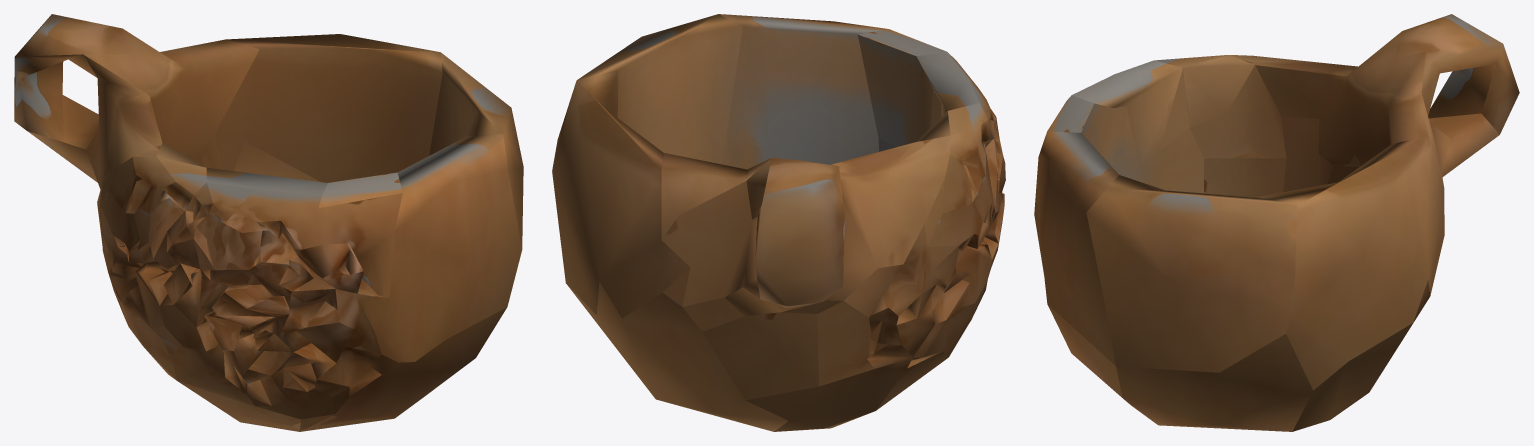
Rendered from WaterCup.glb.
The picture shows the model from 3 angles, left to right: view 1: azimuth 30°, elevation 25°; view 2: azimuth 150°, elevation 25°; view 3: azimuth 270°, elevation 25°; orthographic projection. The views are drawn at different scales.
Parts seen in each view (by area): view 1: WaterCup; view 2: WaterCup; view 3: WaterCup.
Part boxes in pixels (x1,y1,x2,y2): WaterCup: (14, 14, 523, 431); WaterCup: (552, 14, 1005, 431); WaterCup: (1034, 14, 1519, 431).
Size of the model in its own units: 0.8432 by 0.6867 by 0.9978.
Materials: 1 (1 with a texture image).
